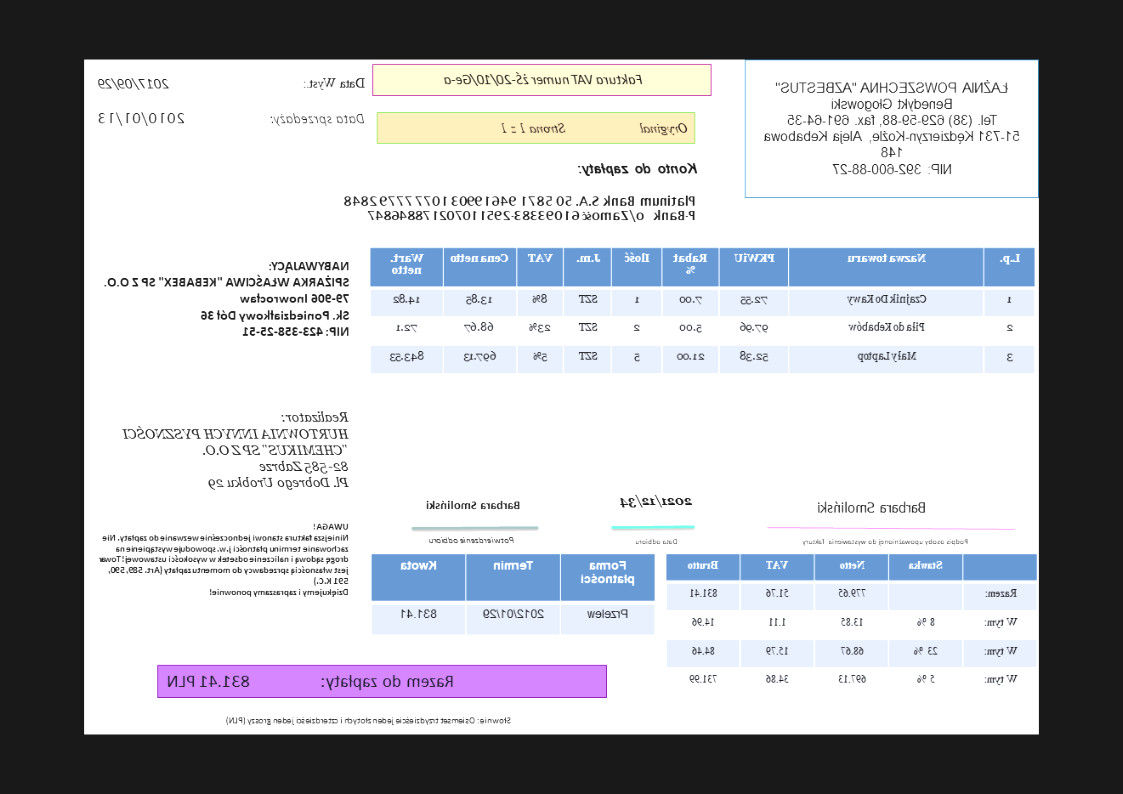Table: (369, 247, 1036, 375), (665, 553, 1038, 696), (370, 552, 656, 637)
TextBox: (762, 77, 1023, 178), (102, 259, 351, 339), (97, 521, 350, 599), (120, 408, 351, 490), (341, 192, 698, 224), (165, 672, 457, 692), (223, 714, 514, 728), (498, 120, 690, 138), (441, 71, 645, 87), (575, 159, 700, 179), (815, 498, 927, 515), (800, 536, 971, 547), (269, 111, 367, 128), (98, 110, 186, 128), (618, 492, 694, 512), (424, 498, 523, 512), (97, 75, 172, 92), (303, 75, 367, 93), (428, 535, 517, 546), (634, 536, 679, 546)
